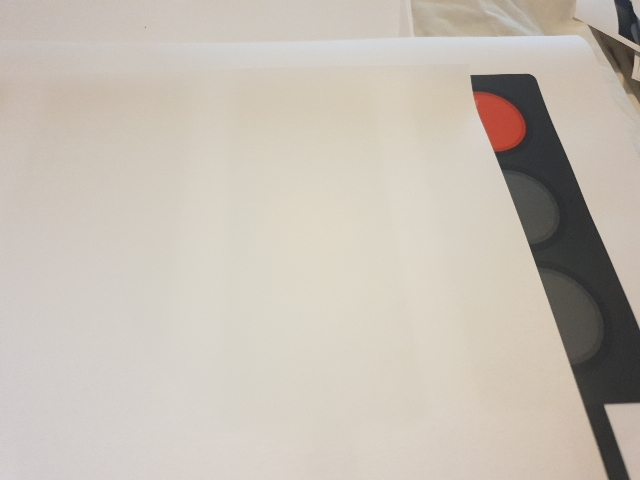red: (461, 82, 600, 384)
